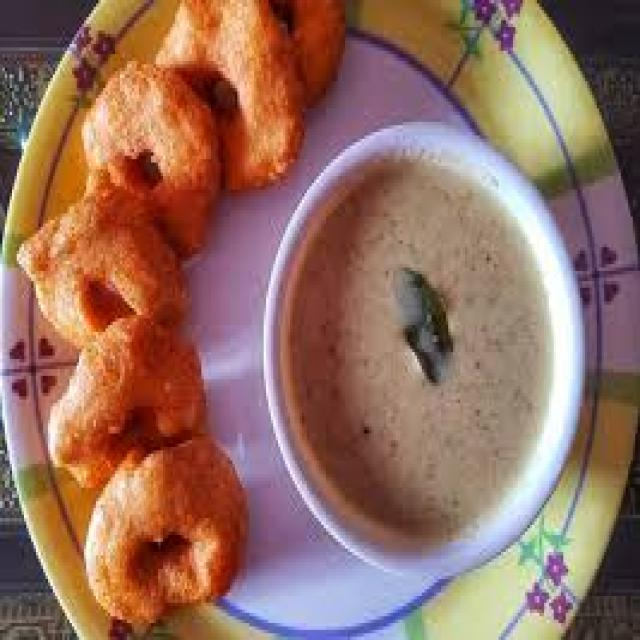MEDU VADA: (85, 437, 243, 629), (159, 2, 295, 191), (82, 67, 217, 256), (25, 193, 189, 348), (54, 322, 205, 479), (273, 0, 351, 98)
